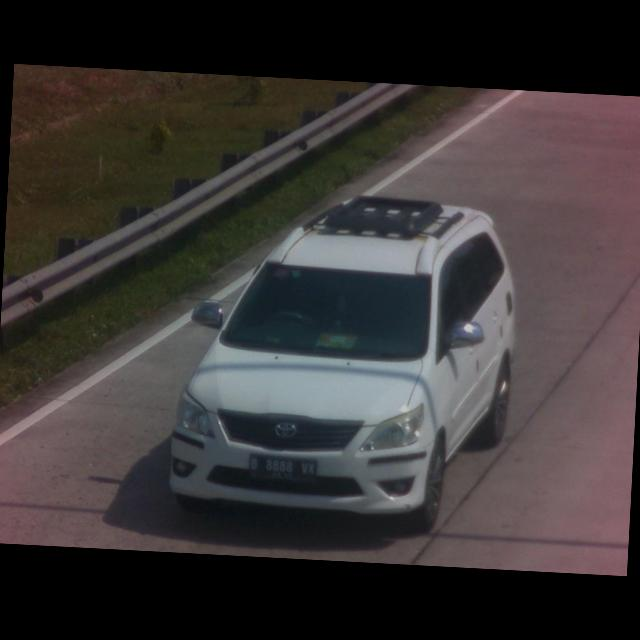plate: (241, 451, 321, 484)
